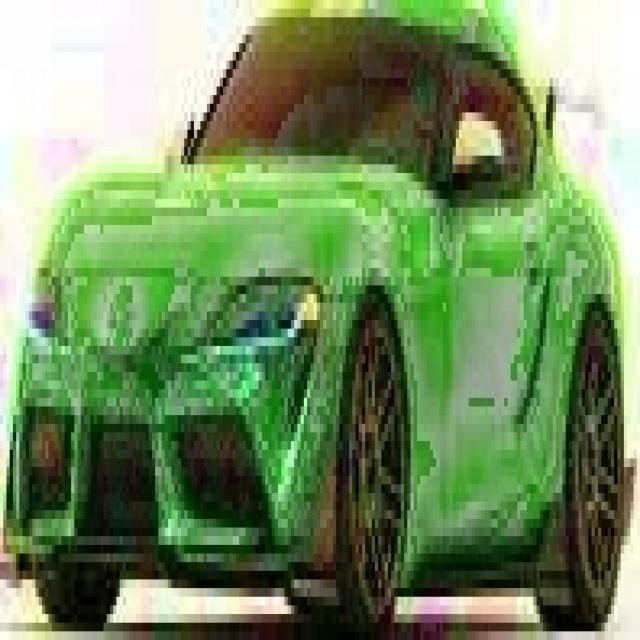green: (3, 0, 633, 631)
